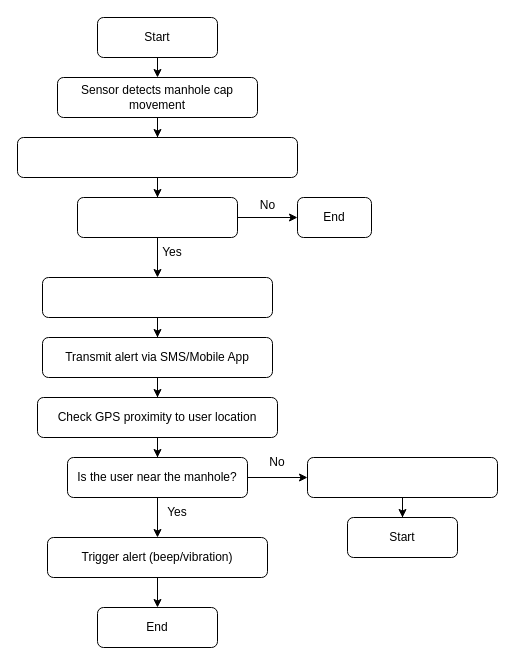
This 515x665 diagram has some shape labels left out. Each missing label, with the centre of its shape:
"Data sent to Raspberry Pi via wireless connection" goes at [157,157].
"Is the movement abnormal?" goes at [157,217].
"Process the data on Raspberry Pi" goes at [157,297].
"Wait for further movement" goes at [402,477].
